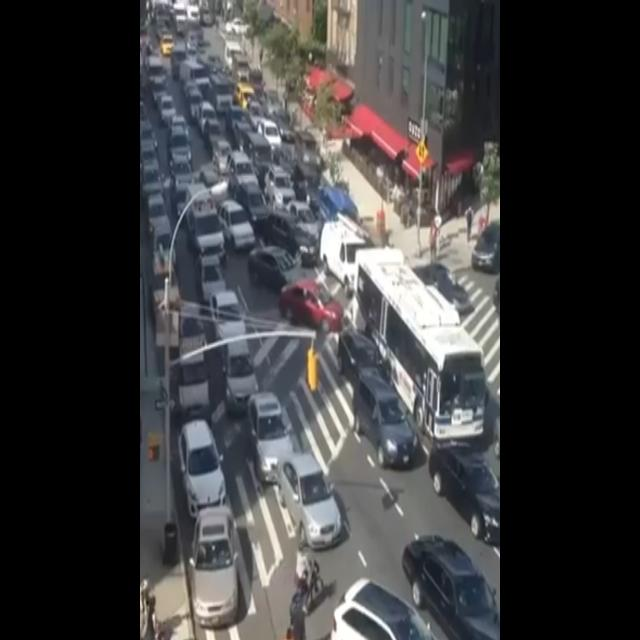Ambulance: (185, 181, 227, 279)
